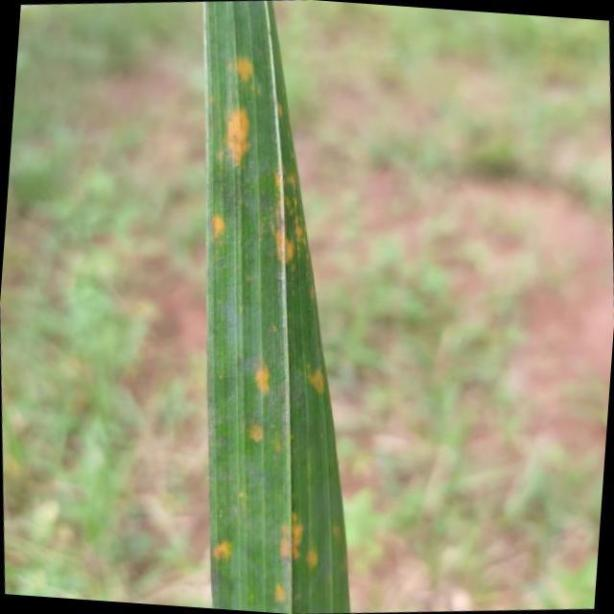Kalium: (200, 0, 350, 614)
